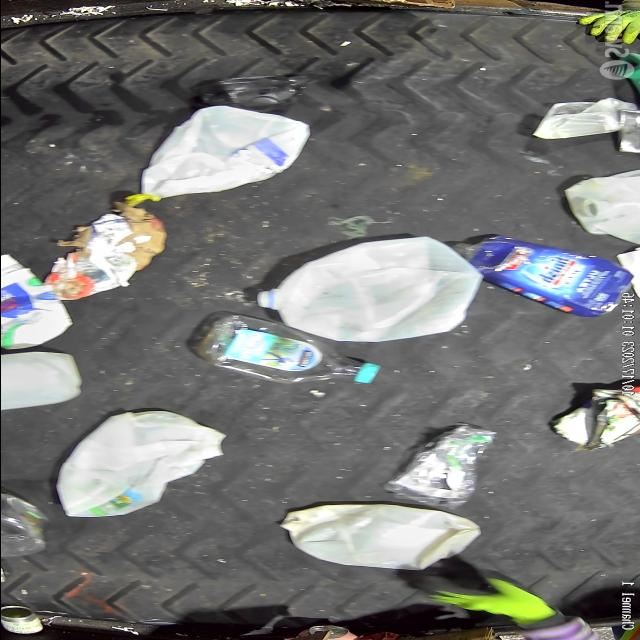can: (0, 604, 44, 634), (615, 109, 640, 153)
milk_jug: (253, 234, 480, 342), (51, 411, 228, 519), (135, 104, 310, 196), (282, 501, 480, 570), (563, 168, 640, 246), (0, 351, 81, 411)
plastic_bottle: (192, 315, 378, 381)
